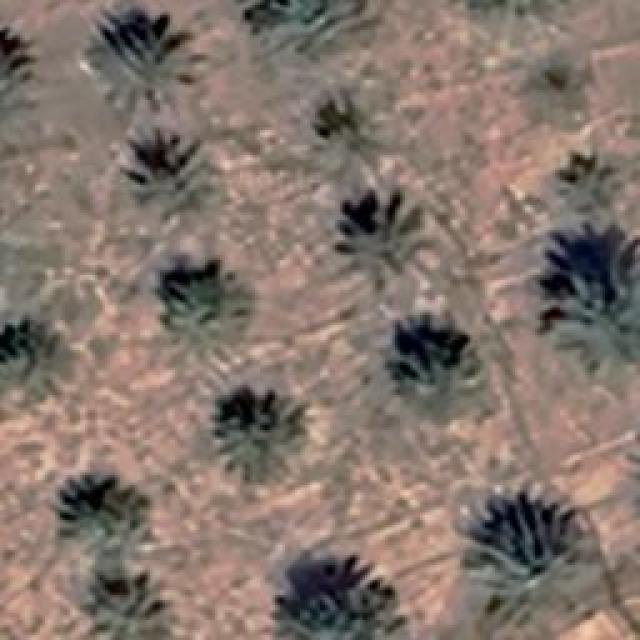PalmTree: (18, 24, 304, 83), (465, 492, 590, 600), (94, 15, 208, 110), (384, 326, 492, 426), (155, 277, 250, 385), (550, 260, 638, 362), (212, 390, 306, 480), (118, 130, 215, 212), (272, 580, 412, 635), (334, 202, 432, 278), (514, 48, 600, 130), (55, 490, 150, 555), (0, 312, 72, 397), (87, 582, 175, 638), (552, 147, 628, 210), (314, 111, 384, 174), (452, 1, 588, 27)
